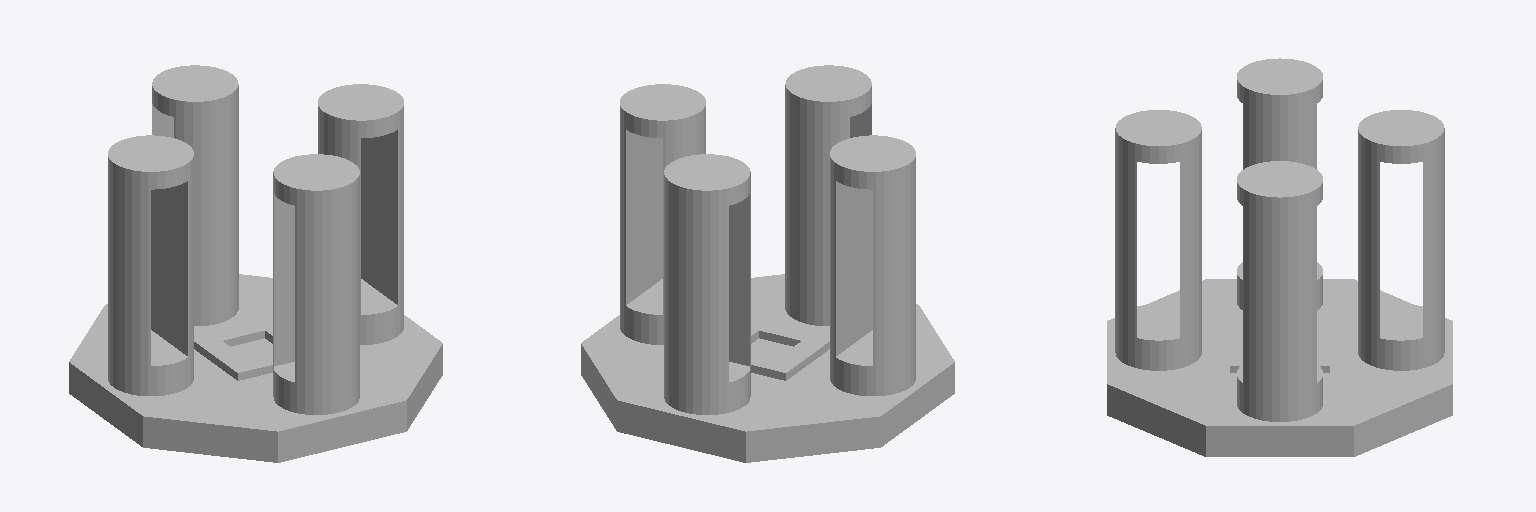
File: solarCollection.obj
3 renders of one model, left to right at view 1: azimuth 30°, elevation 25°; view 2: azimuth 150°, elevation 25°; view 3: azimuth 270°, elevation 25°, orthographic.
Visible parts, largest first — view 1: Cylinder.002; view 2: Cylinder.002; view 3: Cylinder.002.
Boxes of the visible parts, x1,y1,x2,y2 form: Cylinder.002: [69, 65, 442, 462]; Cylinder.002: [581, 65, 954, 462]; Cylinder.002: [1107, 58, 1452, 456].
Bounding box in the file's own units: 1 × 0.8149 × 1.